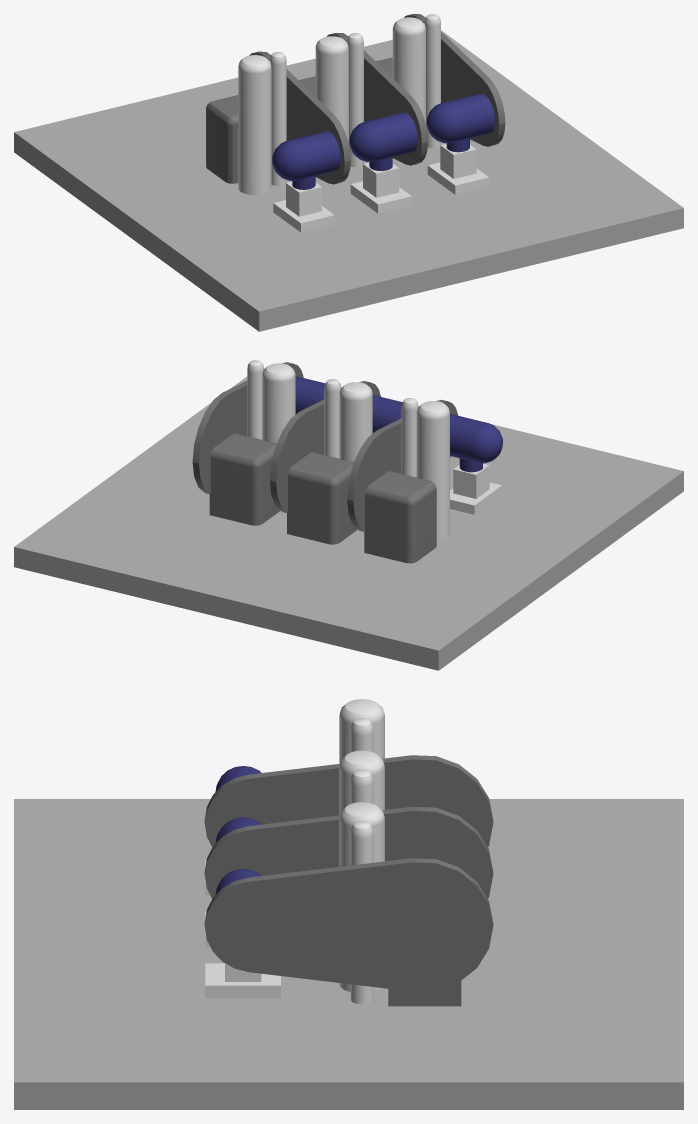
The model's file is BombasInyeccionAgua.fbx.
3 renders of one model, top to bottom at view 1: azimuth 30°, elevation 25°; view 2: azimuth 150°, elevation 25°; view 3: azimuth 270°, elevation 25°, orthographic. The views are drawn at different scales.
Parts seen in each view (by area): view 1: Base1, Tubo1 (×3), Shape (×3), Cylinder2 (×3), Tubo2 (×3), pCube1 (×3), pCube2 (×3), Cube; view 2: Base1, Cube (×3), Shape (×3), Tubo1 (×3), Tubo2 (×3), Cylinder2 (×3), pCube2, pCube1; view 3: Base1, Shape (×3), Tubo1 (×3), Tubo2 (×3), pCube1, Cube.
Boxes of the visible parts, x1,y1,x2,y2 form: Base1: (14,30,683,331); Tubo1 (×3): (238,17,425,195); Shape (×3): (249,14,505,184); Cylinder2 (×3): (272,93,495,180); Tubo2 (×3): (269,14,440,185); pCube1 (×3): (273,162,488,232); pCube2 (×3): (286,143,476,216); Cube: (206,95,238,183); Base1: (14,368,683,670); Cube (×3): (209,433,436,563); Shape (×3): (192,362,458,531); Tubo1 (×3): (262,363,449,540); Tubo2 (×3): (247,360,418,477); Cylinder2 (×3): (295,376,502,463); pCube2: (453,463,489,498); pCube1: (450,482,501,514); Base1: (14,799,683,1109); Shape (×3): (204,755,493,991); Tubo1 (×3): (339,699,384,991); Tubo2 (×3): (350,718,373,1004); pCube1: (205,963,280,998); Cube: (388,981,461,1006).
Bounding box in the file's own units: 22 × 7.39 × 22.
